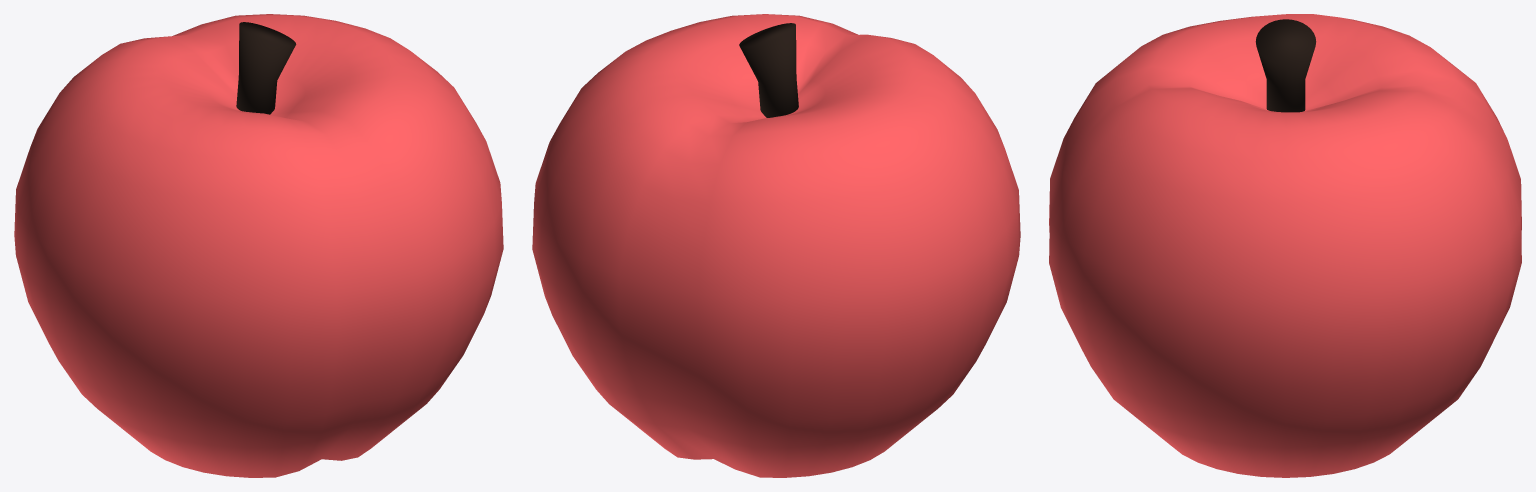
Rendered from Apple.fbx.
3 renders of one model, left to right at view 1: azimuth 30°, elevation 25°; view 2: azimuth 150°, elevation 25°; view 3: azimuth 270°, elevation 25°, orthographic.
Parts seen in each view (by area): view 1: Sphere; view 2: Sphere; view 3: Sphere.
Boxes of the visible parts, x1,y1,x2,y2 form: Sphere: (14, 14, 503, 477); Sphere: (532, 14, 1020, 477); Sphere: (1049, 14, 1521, 477).
Size of the model in its own units: 30.28 by 27.71 by 29.28.
Materials: 1 (1 with a texture image).
